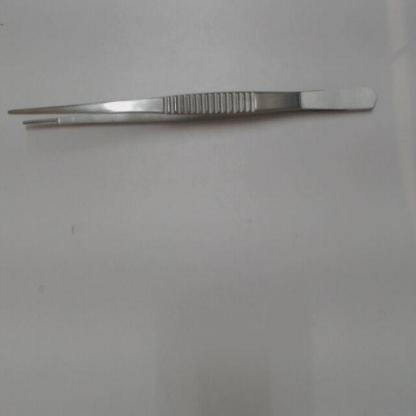DeBakey Dissector: (6, 72, 388, 146)
